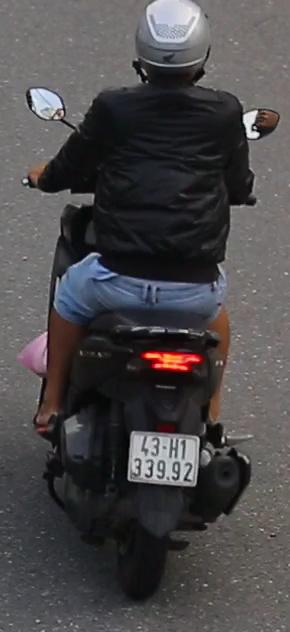LP: (124, 428, 202, 495)
helmet: (127, 0, 214, 97)
